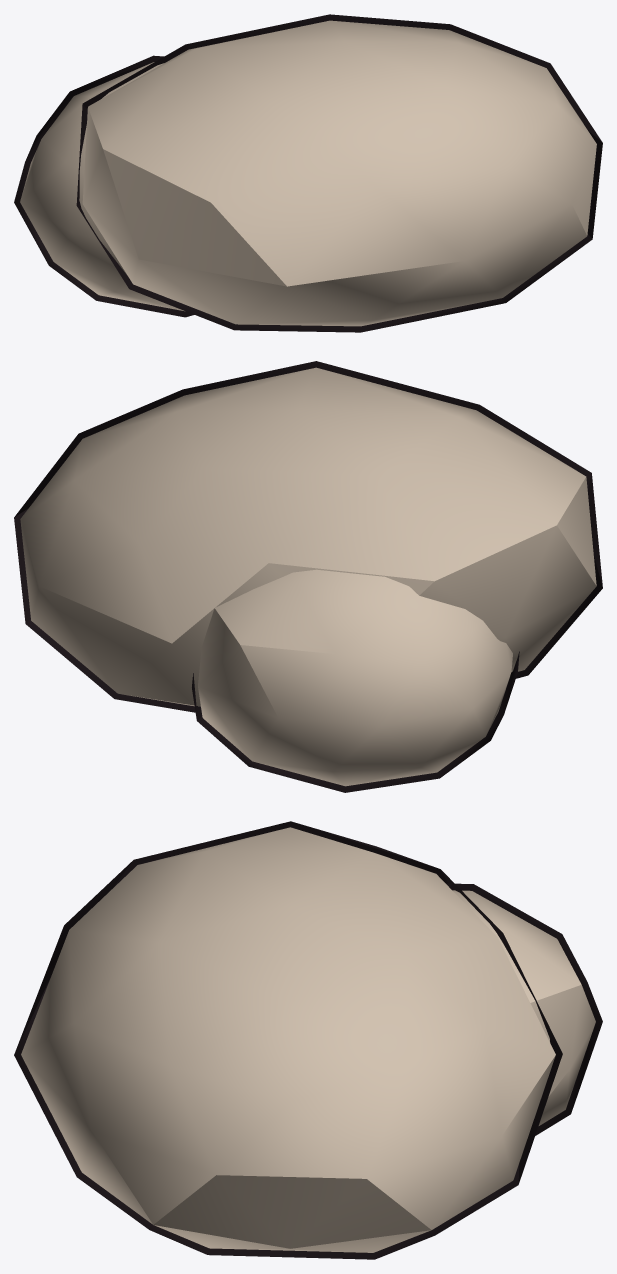
Rendered from SM_Bush_03.fbx.
3 renders of one model, top to bottom at view 1: azimuth 30°, elevation 25°; view 2: azimuth 150°, elevation 25°; view 3: azimuth 270°, elevation 25°, orthographic. The views are drawn at different scales.
Parts seen in each view (by area): view 1: SM_Bush_03; view 2: SM_Bush_03; view 3: SM_Bush_03.
Boxes of the visible parts, x1,y1,x2,y2 form: SM_Bush_03: (14, 14, 602, 332); SM_Bush_03: (14, 361, 602, 792); SM_Bush_03: (14, 821, 602, 1259).
Bounding box in the file's own units: 1.43 × 0.7875 × 1.35.
